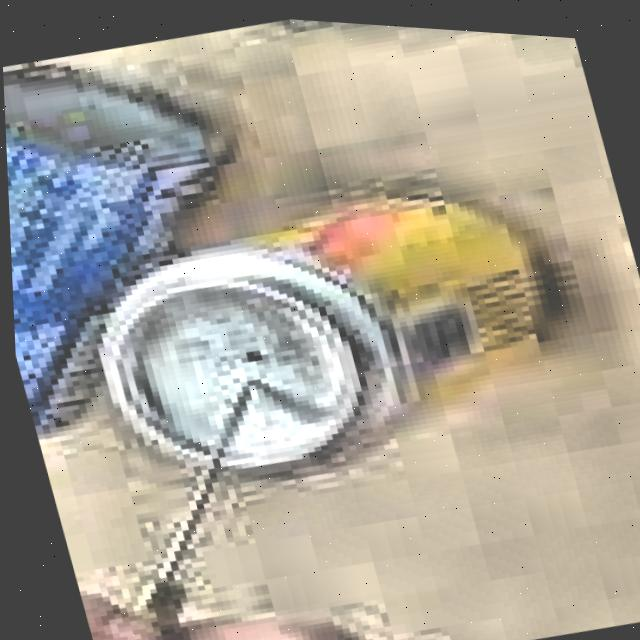metal: (35, 128, 618, 538)
